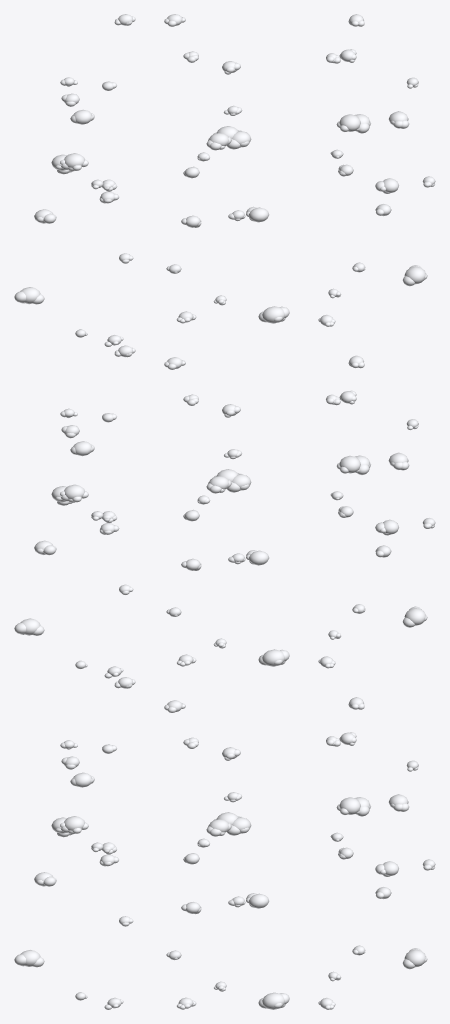
The model's file is CloudLayer0.obj.
The picture shows the model from 3 angles, left to right: view 1: azimuth 30°, elevation 25°; view 2: azimuth 210°, elevation 25°; view 3: azimuth 270°, elevation 25°; orthographic projection. The views are drawn at different scales.
Visible parts, largest first — view 1: CloudLayer0; view 2: CloudLayer0; view 3: CloudLayer0.
Boxes of the visible parts, box(x1,y1,x2,y2) form: CloudLayer0: box(14, 14, 135, 1009); CloudLayer0: box(164, 14, 289, 1009); CloudLayer0: box(318, 14, 435, 1009).
Bounding box in the file's own units: 25.84 × 265 × 28.
Materials: 1 (1 with a texture image).
